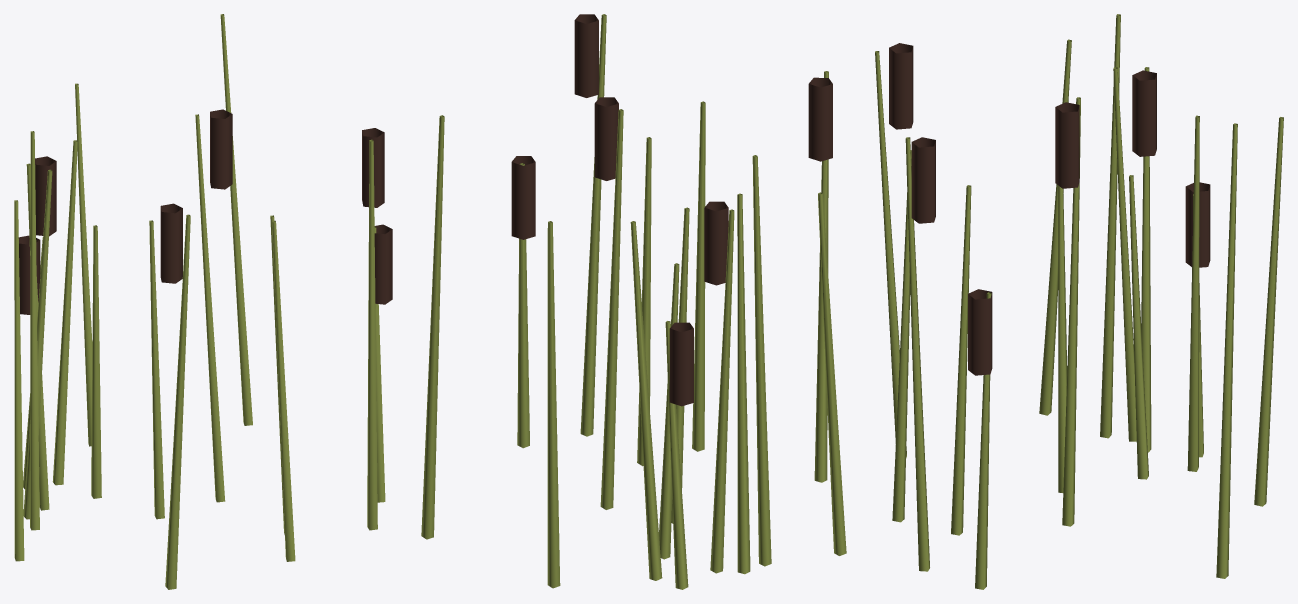
Rendered from reeds.glb.
3 views of the same model, side by side, from view 1: azimuth 30°, elevation 25°; view 2: azimuth 150°, elevation 25°; view 3: azimuth 270°, elevation 25° (orthographic). The views are drawn at different scales.
Visible parts, largest first — view 1: reed0; view 2: reed0; view 3: reed0.
Boxes of the visible parts, x1=… form: reed0: x1=14, y1=14, x2=392, y2=589; reed0: x1=421, y1=14, x2=846, y2=589; reed0: x1=875, y1=14, x2=1283, y2=589.
Bounding box in the file's own units: 1.64 × 1.86 × 1.56.
